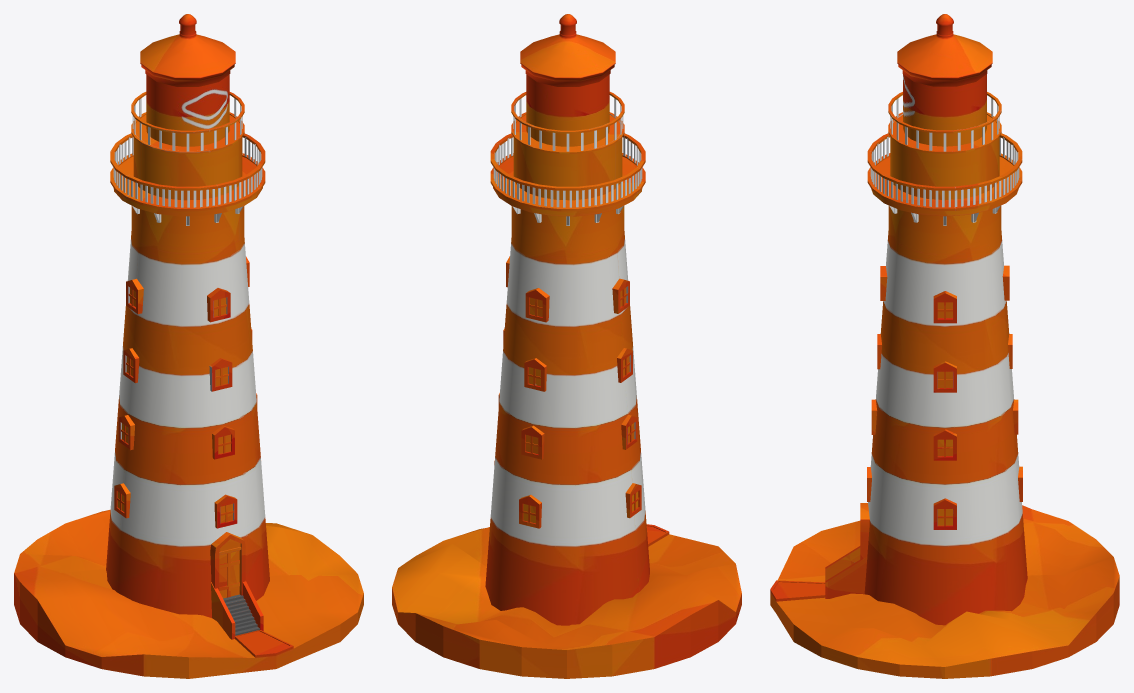
3 renders of one model, left to right at view 1: azimuth 30°, elevation 25°; view 2: azimuth 150°, elevation 25°; view 3: azimuth 270°, elevation 25°, orthographic.
Visible parts, largest first — view 1: Base, Railing, Windows, StairsAndDoors; view 2: Base, Railing, Windows; view 3: Base, Railing, Windows, StairsAndDoors.
Boxes of the visible parts, <box> form: Base: <box>14,14,363,678</box>; Railing: <box>110,92,265,225</box>; Windows: <box>114,256,257,528</box>; StairsAndDoors: <box>210,532,263,639</box>; Base: <box>392,14,741,678</box>; Railing: <box>490,92,645,225</box>; Windows: <box>494,256,641,528</box>; Base: <box>770,14,1119,678</box>; Railing: <box>867,92,1022,225</box>; Windows: <box>867,265,1022,529</box>; StairsAndDoors: <box>825,503,869,598</box>.
Bounding box in the file's own units: 2.71 × 5.05 × 2.71.
Materials: 4 (4 with a texture image).
